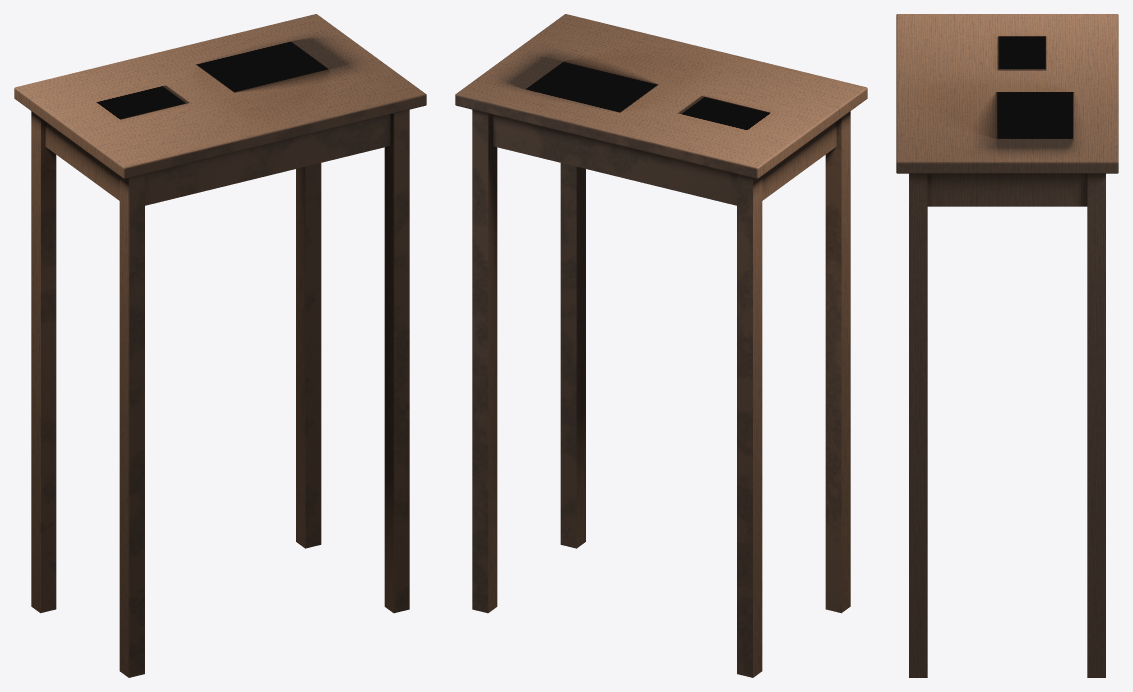
The model's file is 812_brick.glb.
3 views of the same model, side by side, from view 1: azimuth 30°, elevation 25°; view 2: azimuth 150°, elevation 25°; view 3: azimuth 270°, elevation 25° (orthographic).
Parts seen in each view (by area): view 1: Table; view 2: Table; view 3: Table.
Part boxes in pixels (left/top/right/bottom): Table: left=14, top=14, right=426, bottom=677; Table: left=455, top=14, right=867, bottom=677; Table: left=896, top=14, right=1118, bottom=677.
Size of what is drawn, in the model's own units: 1.9 by 3.1 by 1.2.
1 material, 1 textured.
